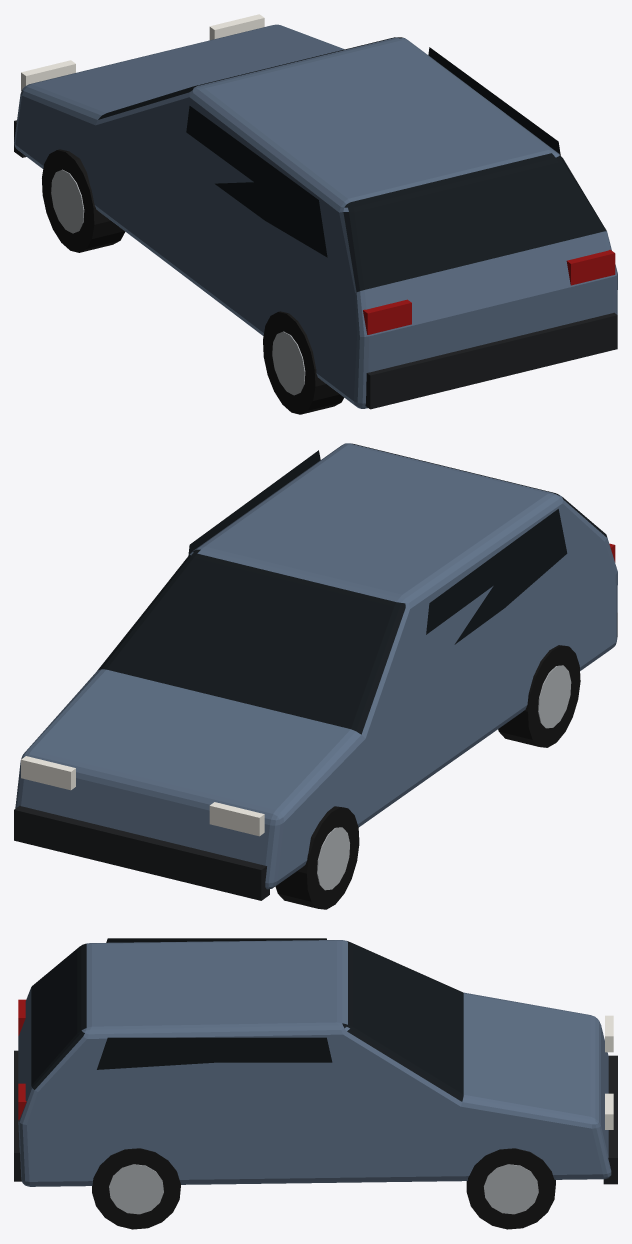
File: car-hatchback.glb
3 views of the same model, one above another, from view 1: azimuth 30°, elevation 25°; view 2: azimuth 150°, elevation 25°; view 3: azimuth 270°, elevation 25° (orthographic). The views are drawn at different scales.
Visible parts, largest first — view 1: car-hatchback.001; view 2: car-hatchback.001; view 3: car-hatchback.001.
Part boxes in pixels (box(x1,y1,x2,y2)): car-hatchback.001: box(14, 14, 617, 414); car-hatchback.001: box(14, 443, 617, 909); car-hatchback.001: box(14, 938, 617, 1229).
Bounding box in the file's own units: 1.83 × 1.48 × 4.19.
